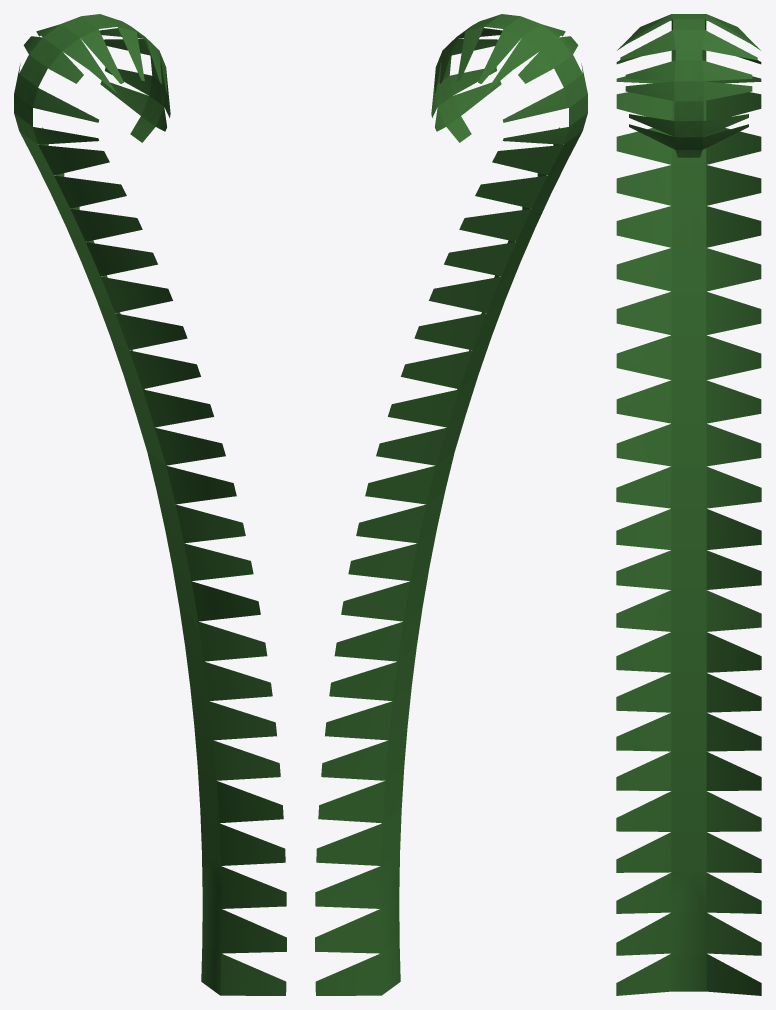
File: FernCurl_Low.fbx
3 views of the same model, side by side, from view 1: azimuth 30°, elevation 25°; view 2: azimuth 150°, elevation 25°; view 3: azimuth 270°, elevation 25° (orthographic). The views are drawn at different scales.
Parts seen in each view (by area): view 1: FernCurl; view 2: FernCurl; view 3: FernCurl.
Part boxes in pixels (left/top/right/bottom): FernCurl: left=14, top=14, right=286, bottom=995; FernCurl: left=315, top=14, right=587, bottom=995; FernCurl: left=616, top=14, right=761, bottom=995.
Size of the model in its own units: 0.212 by 0.9 by 0.129.
